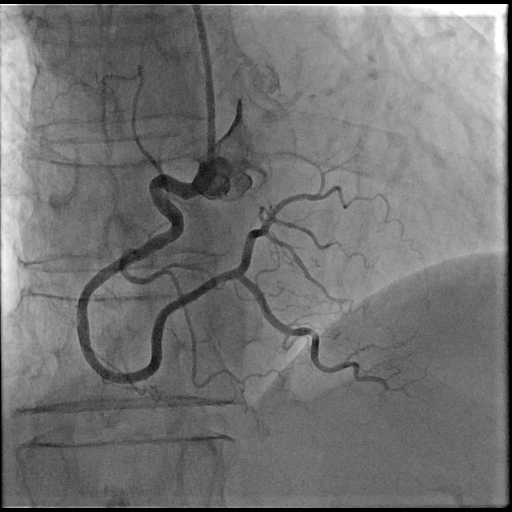RCA: (77, 175, 381, 384)
catherter: (193, 5, 216, 159)
